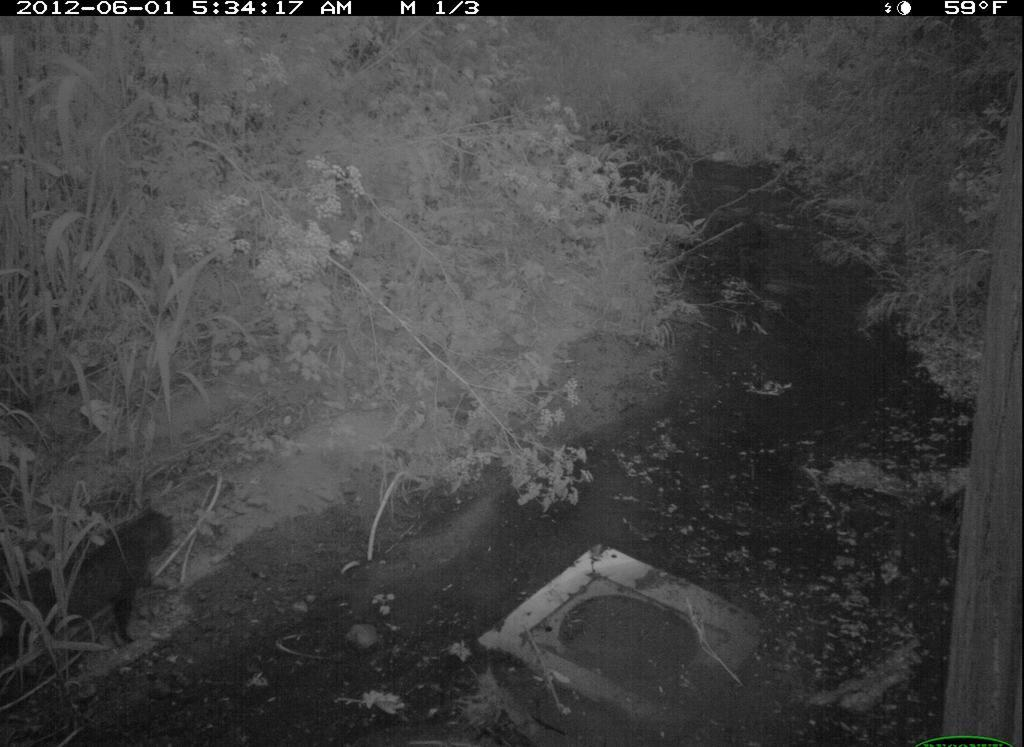cat: (11, 502, 190, 662)
